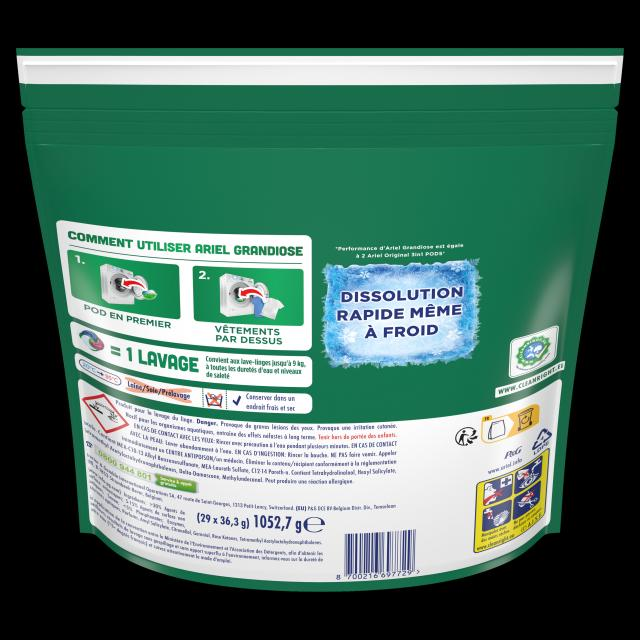GHS_Symbol_CORROSION: (82, 394, 130, 434)
